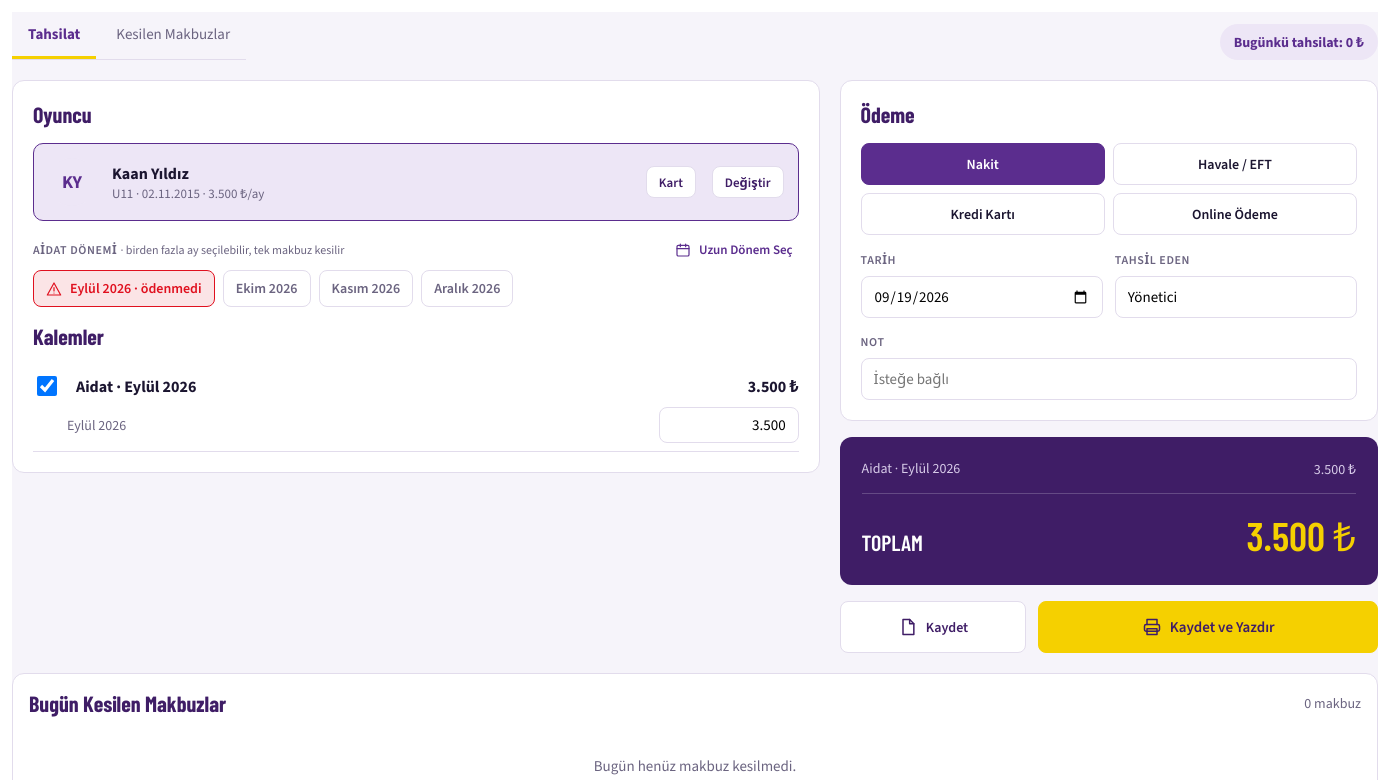
Test: Tahsilat — yazdırma/PDF hata yolları › Kaydet ve Yazdır: kullanıcı yazdırmayı iptal ederse yalnız 'Yazdırma iptal edildi.' denir, PDF açılmaz
Click the button "Kaydet ve Yazdır".
click(1208, 627)  # box top-left (1038, 601), bottom-right (1378, 653)
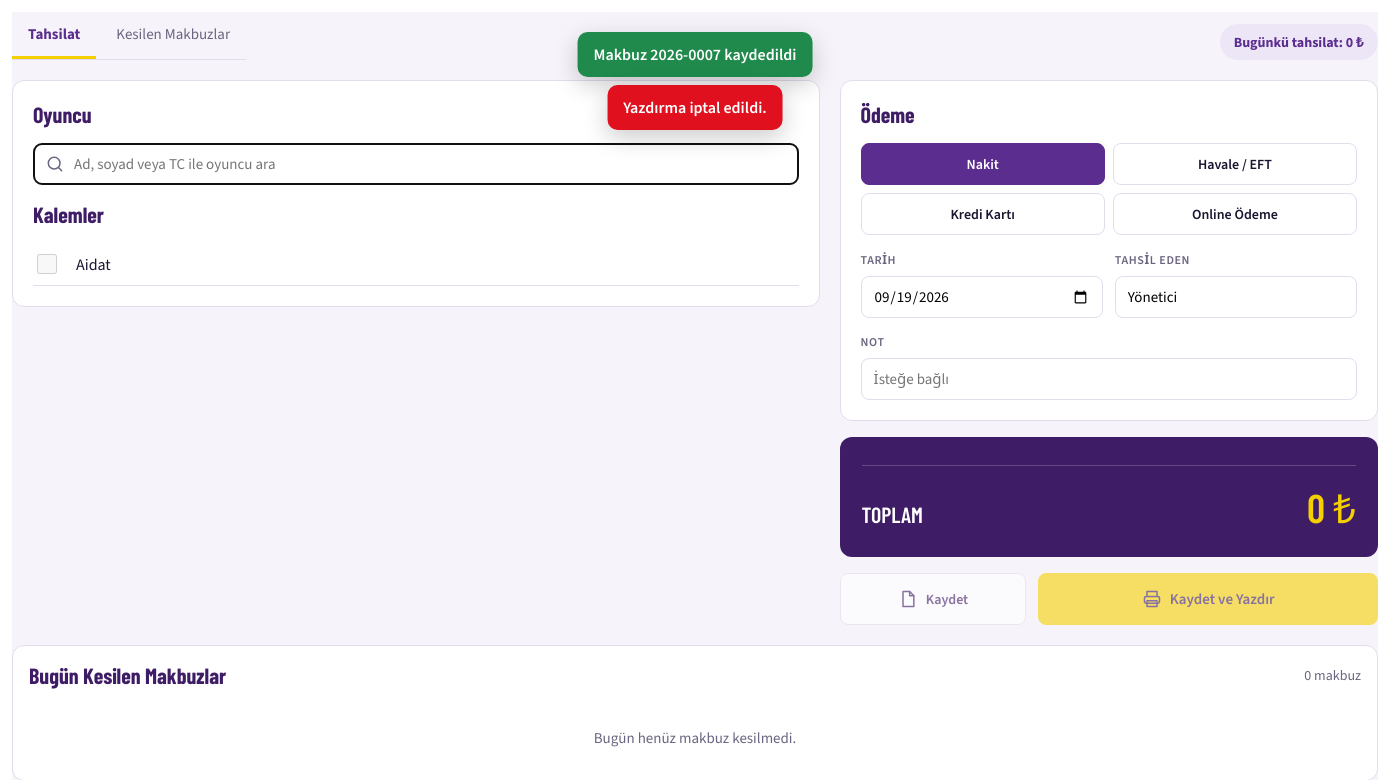
Check: the text "Yazdırma iptal edildi." is shown, box top-left (607, 85), bottom-right (783, 130)
